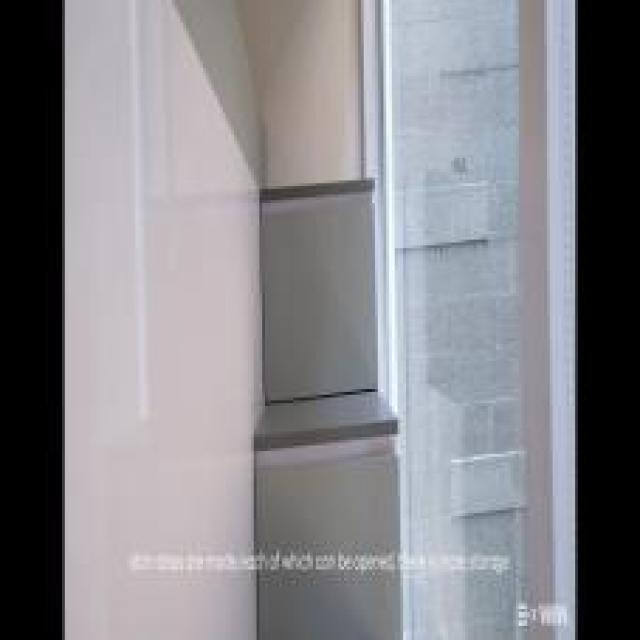upstair: (244, 162, 416, 500)
